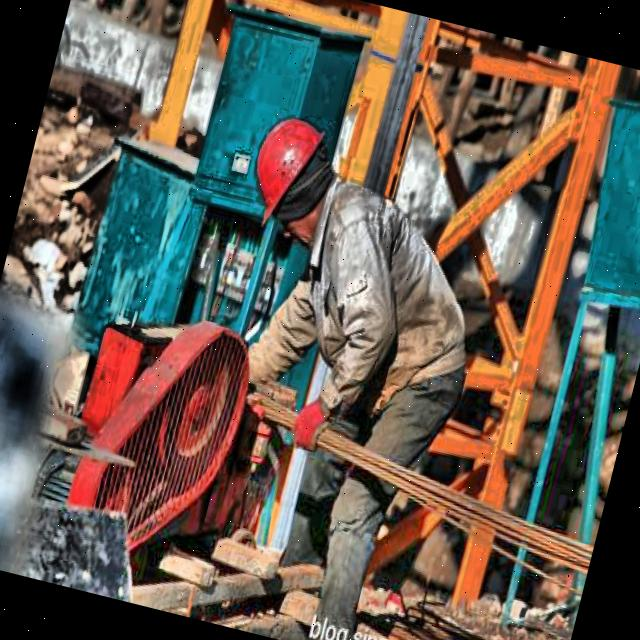helmet: (232, 101, 341, 249)
